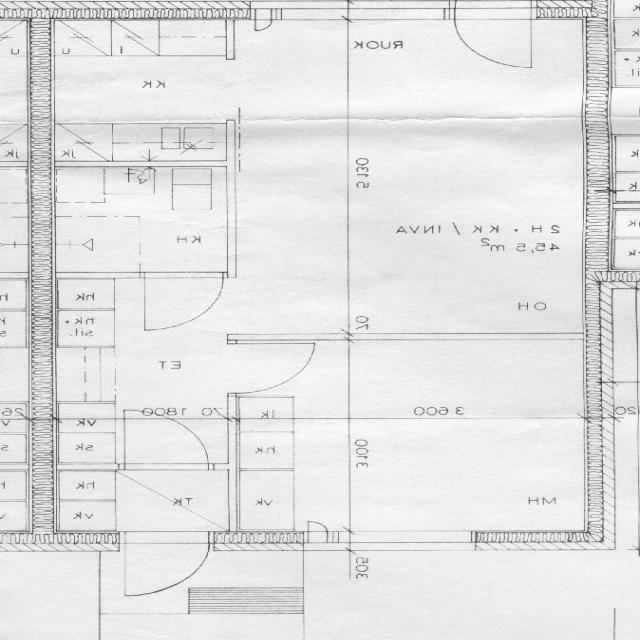door: (126, 532, 211, 598), (456, 1, 532, 67), (126, 410, 209, 470), (144, 271, 222, 328), (230, 343, 314, 393), (456, 0, 532, 19)
